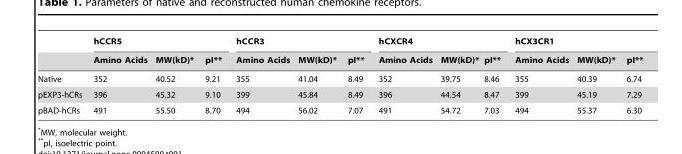table: (37, 36, 642, 114)
table column: (228, 36, 293, 114), (370, 36, 435, 114), (507, 36, 572, 114), (87, 36, 150, 114), (37, 36, 87, 114), (150, 36, 198, 114), (293, 36, 341, 114), (572, 36, 620, 114), (435, 36, 480, 114), (198, 36, 228, 114), (341, 36, 370, 114), (480, 36, 507, 114), (620, 36, 642, 114)
table column header: (37, 36, 642, 69)
table row: (37, 50, 642, 69), (37, 69, 642, 86), (37, 86, 642, 102), (37, 36, 642, 50), (37, 102, 642, 114)
table spanning cell: (228, 36, 370, 50), (87, 36, 228, 50), (370, 36, 507, 50), (507, 36, 642, 50)
